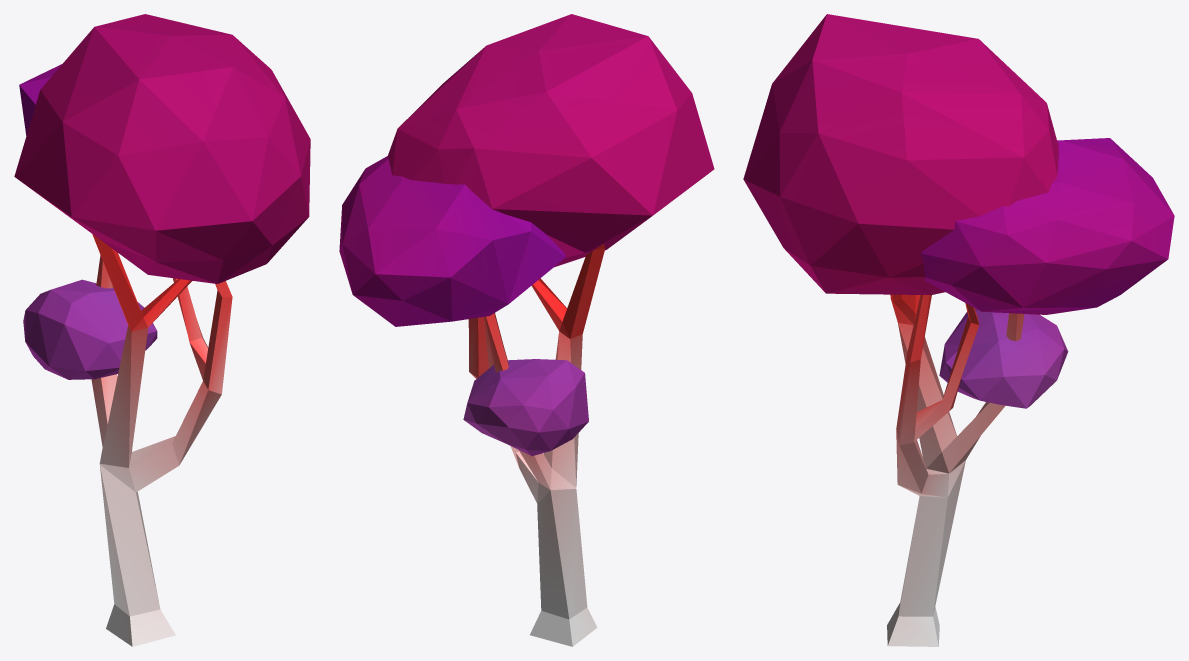
Rendered from treeTest5.fbx.
The picture shows the model from 3 angles, left to right: view 1: azimuth 30°, elevation 25°; view 2: azimuth 150°, elevation 25°; view 3: azimuth 270°, elevation 25°; orthographic projection. The views are drawn at different scales.
Visible parts, largest first — view 1: Icosphere, Cube; view 2: Icosphere, Cube; view 3: Icosphere, Cube.
Boxes of the visible parts, x1,y1,x2,y2 form: Icosphere: (14,14,310,379); Cube: (91,234,232,646); Icosphere: (339,14,714,455); Cube: (468,243,605,646); Icosphere: (743,14,1174,408); Cube: (887,294,1024,646).
Bounding box in the file's own units: 311 × 637 × 414.
